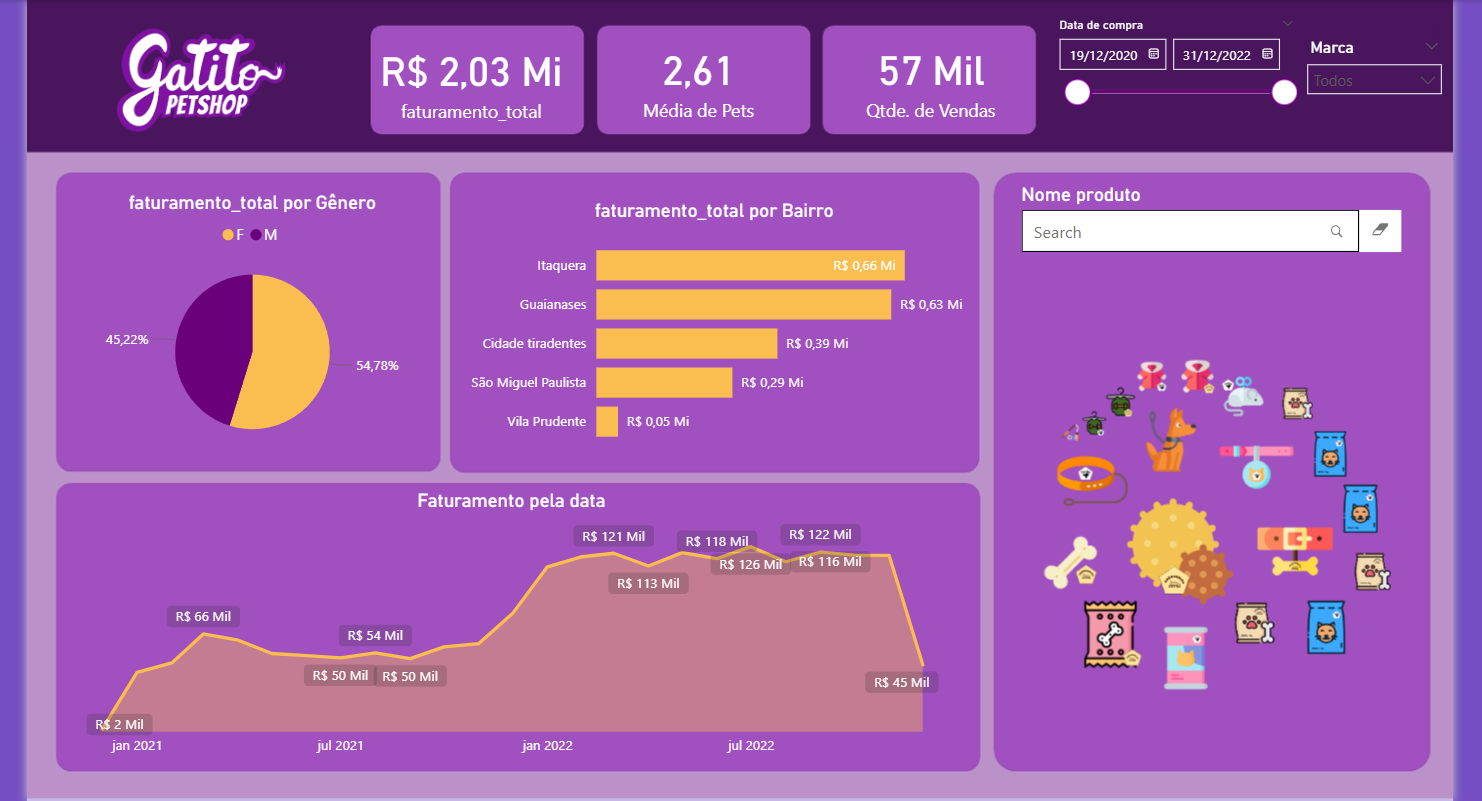

The dashboard page shown, as its layout file describes it:
{"tool":"powerbi","page":{"name":"Página 1","canvas":[1280,720],"ordinal":0},"visuals":[{"type":"card","fields":{"Values":["Avg(Clientes.Pets)"]},"box":[527.2,24.3,151.7,92.4],"z":0},{"type":"card","fields":{"Values":["Sum(Vendas.Quantidade)"]},"box":[720.7,10.7,180.9,119.6],"z":1000},{"type":"card","fields":{"Values":["Vendas.faturamento_total"]},"box":[279.1,29.2,239.3,83.6],"z":2000},{"type":"pieChart","fields":{"Category":["Clientes.Gênero"],"Y":["Vendas.faturamento_total"]},"box":[39.9,171.2,325.8,241.2],"z":4000},{"type":"clusteredBarChart","fields":{"Category":["Clientes.Bairro"],"Y":["Vendas.faturamento_total"]},"box":[385.2,179,464,233.4],"z":5000},{"type":"areaChart","title":"Faturamento pela data ","fields":{"Category":["Vendas.Data de compra.Variation.Hierarquia de datas.Ano","Vendas.Data de compra.Variation.Hierarquia de datas.Trimestre","Vendas.Data de compra.Variation.Hierarquia de datas.Mês","Vendas.Data de compra.Variation.Hierarquia de datas.Dia"],"Y":["Vendas.faturamento_total"]},"box":[39.9,438.7,790.8,248],"z":6000},{"type":"ImageGrid_FC5183B9_926C_45E0_B5F7_0CE9EAF1DA9B","fields":{"ImageURL":["Produtos.Url img"]},"box":[888,265.5,362.8,410.5],"z":7000},{"type":"textFilter25A4896A83E0487089E2B90C9AE57C8A","fields":{"field":["Produtos.Nome produto"]},"box":[888,164.4,351.1,85.6],"z":8000},{"type":"slicer","fields":{"Values":["Produtos.Marca"]},"box":[1139,29.2,141,82.7],"z":9000},{"type":"slicer","fields":{"Values":["Vendas.Data de compra"]},"box":[914.3,10.7,235.4,124.5],"z":10000}]}

Visuals, with their boxes on the page's 1280x720 design canvas (x1, y1, x2, y2). These are canvas units, not pixel positions in the 1482x801 screenshot, which may show the page scaled, cropped or inside an application window:
card - Avg(Clientes.Pets): 527, 24, 679, 117
card - Sum(Vendas.Quantidade): 721, 11, 902, 130
card - Vendas.faturamento_total: 279, 29, 518, 113
pieChart - Clientes.Gênero x Vendas.faturamento_total: 40, 171, 366, 412
clusteredBarChart - Clientes.Bairro x Vendas.faturamento_total: 385, 179, 849, 412
"Faturamento pela data " areaChart: 40, 439, 831, 687
ImageGrid_FC5183B9_926C_45E0_B5F7_0CE9EAF1DA9B - Produtos.Url img: 888, 266, 1251, 676
textFilter25A4896A83E0487089E2B90C9AE57C8A - Produtos.Nome produto: 888, 164, 1239, 250
slicer - Produtos.Marca: 1139, 29, 1280, 112
slicer - Vendas.Data de compra: 914, 11, 1150, 135
